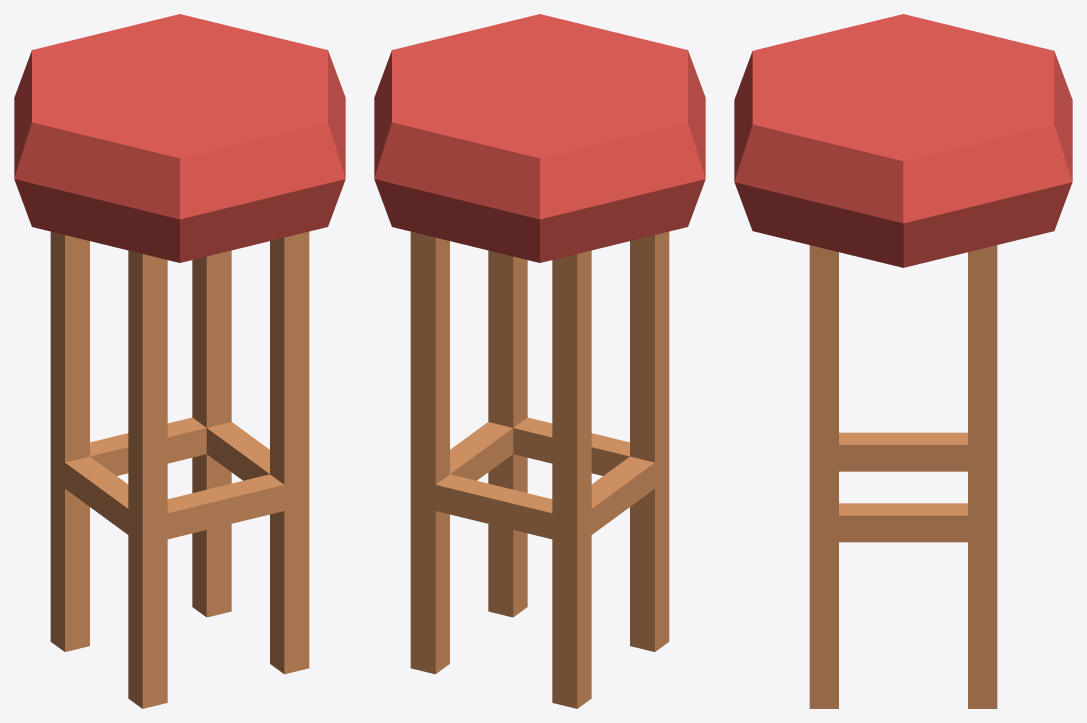
Rendered from StoolBar.glb.
The picture shows the model from 3 angles, left to right: view 1: azimuth 30°, elevation 25°; view 2: azimuth 150°, elevation 25°; view 3: azimuth 270°, elevation 25°; orthographic projection.
Parts seen in each view (by area): view 1: StoolBar; view 2: StoolBar; view 3: StoolBar.
Part boxes in pixels (x1,y1,x2,y2): StoolBar: (14, 14, 345, 708); StoolBar: (374, 14, 705, 708); StoolBar: (734, 14, 1072, 708).
Bounding box in the file's own units: 0.496 × 0.8128 × 0.4295.
